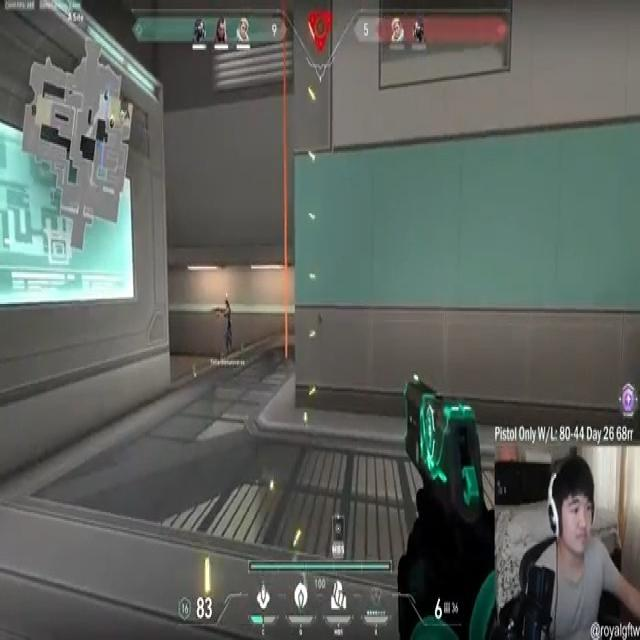ally: (212, 296, 243, 366)
